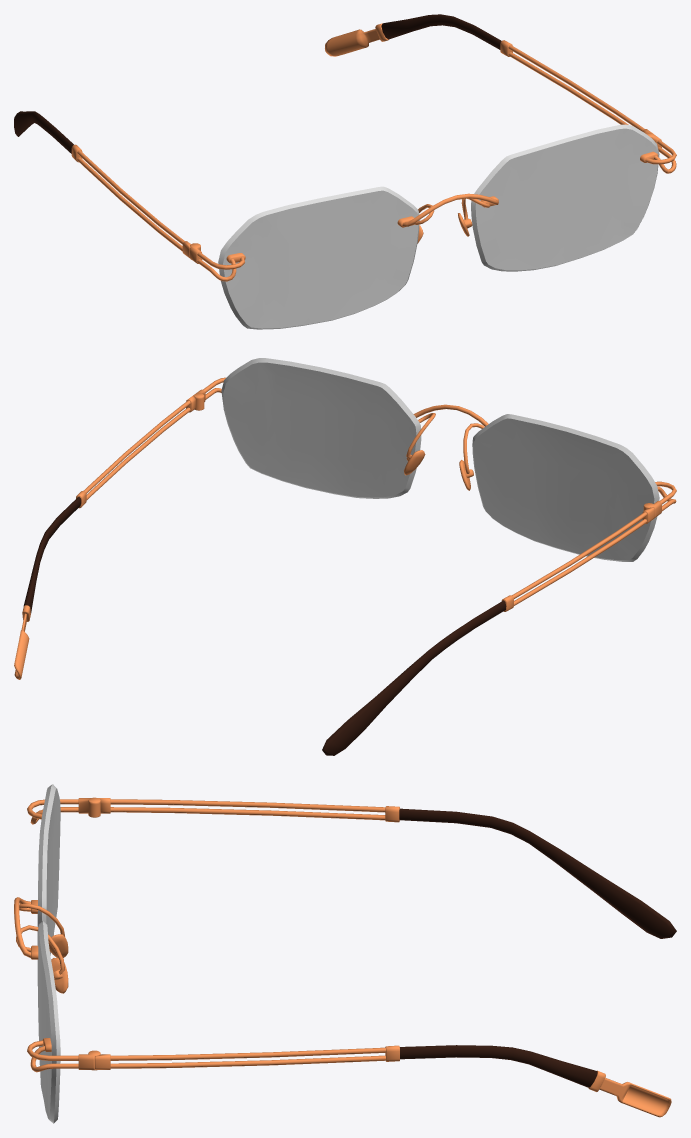
The model's file is Model_Lun_01_not_baked.glb.
3 renders of one model, top to bottom at view 1: azimuth 30°, elevation 25°; view 2: azimuth 150°, elevation 25°; view 3: azimuth 270°, elevation 25°, orthographic. The views are drawn at different scales.
Parts seen in each view (by area): view 1: Glasses, Monture; view 2: Glasses, Monture; view 3: Monture, Glasses.
Part boxes in pixels (box(x1,y1,x2,y2)): Glasses: box(218, 124, 659, 329); Monture: box(14, 14, 676, 281); Glasses: box(221, 358, 659, 561); Monture: box(14, 377, 676, 755); Monture: box(14, 797, 676, 1117); Glasses: box(37, 784, 60, 1123).
Bounding box in the file's own units: 0.1397 × 0.036 × 0.1508.
